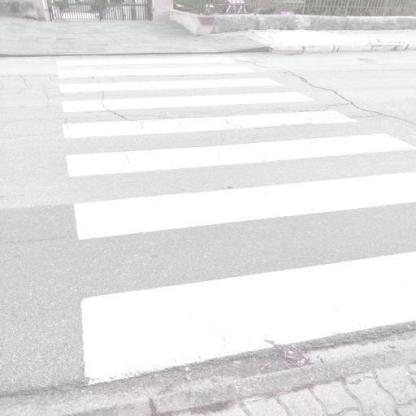crosswalk: (63, 168, 415, 388), (53, 90, 373, 145), (53, 48, 258, 80)
